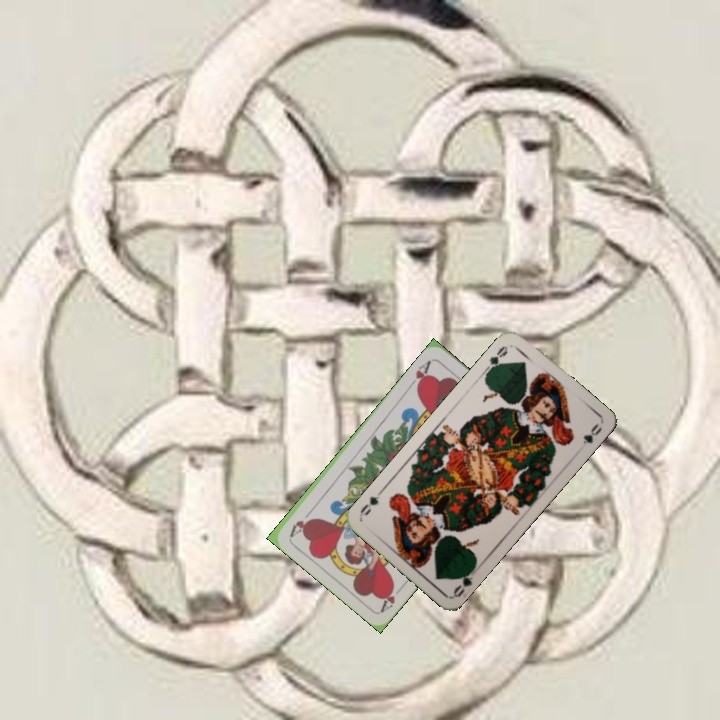GO: (449, 563, 478, 600), (480, 342, 510, 376)
HA: (377, 579, 408, 614), (405, 356, 434, 392)
